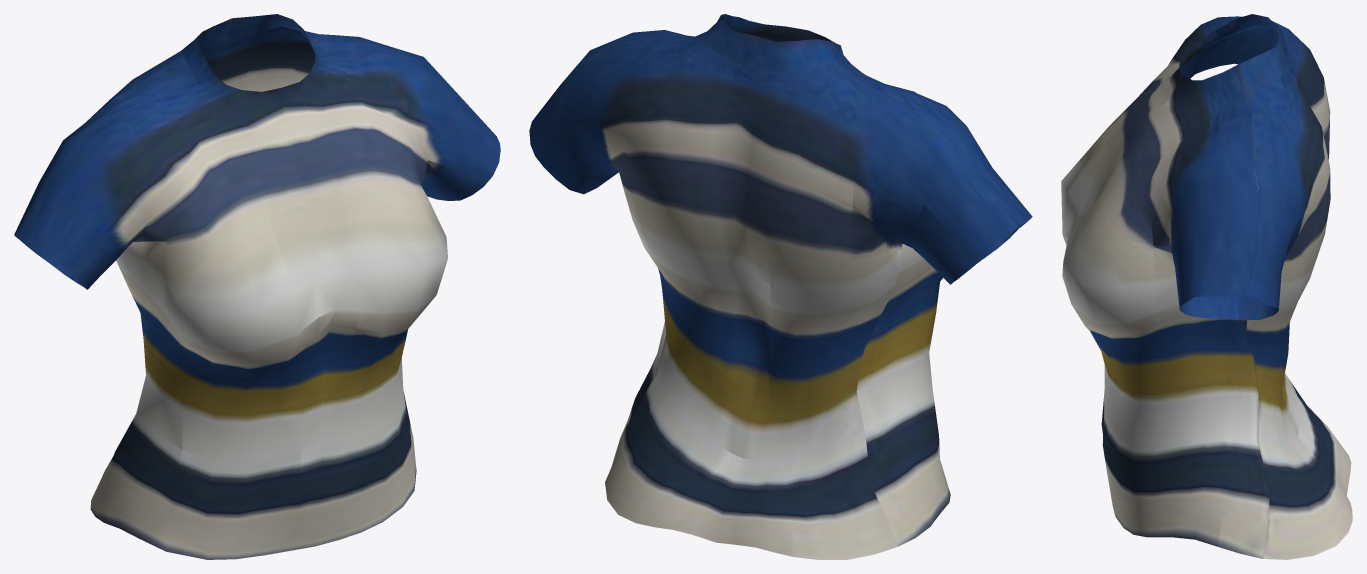
File: TS_XLF.dae
The picture shows the model from 3 angles, left to right: view 1: azimuth 30°, elevation 25°; view 2: azimuth 150°, elevation 25°; view 3: azimuth 270°, elevation 25°; orthographic projection. The views are drawn at different scales.
Visible parts, largest first — view 1: TS; view 2: TS; view 3: TS.
Part boxes in pixels (x1,y1,x2,y2): TS: (14,14,500,559); TS: (529,14,1032,559); TS: (1061,14,1352,559).
Size of the model in its own units: 5.4 by 5.18 by 2.95.
